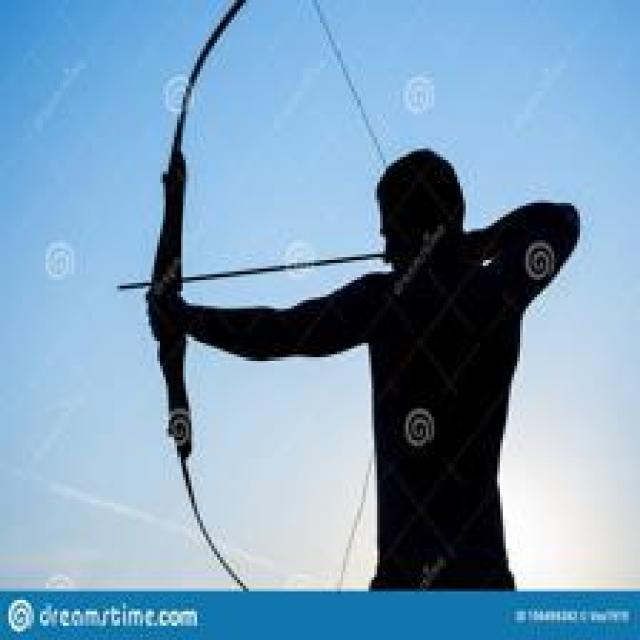X-Bow: (127, 0, 298, 614)
